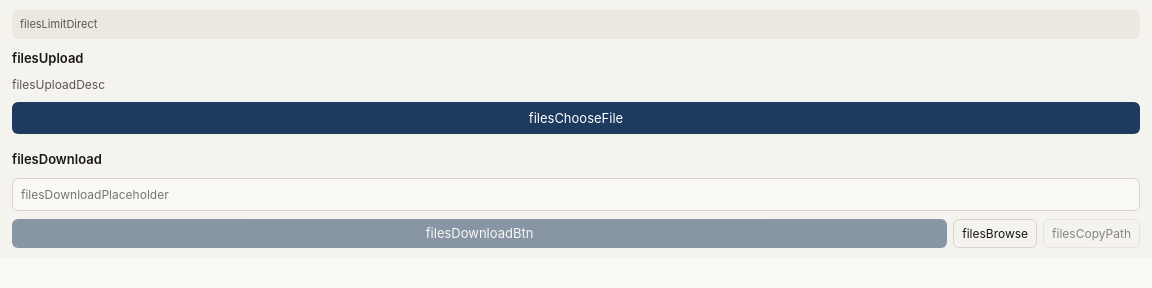
Test: FilesPanel 下载 › FilesPanel_DownloadSavesBlob_1
The image size is (1152, 288).
Type "D:/demo/out.txt" into the field with class "dl-input". click: (576, 194)
box: x1=12 y1=178 x2=1140 y2=210
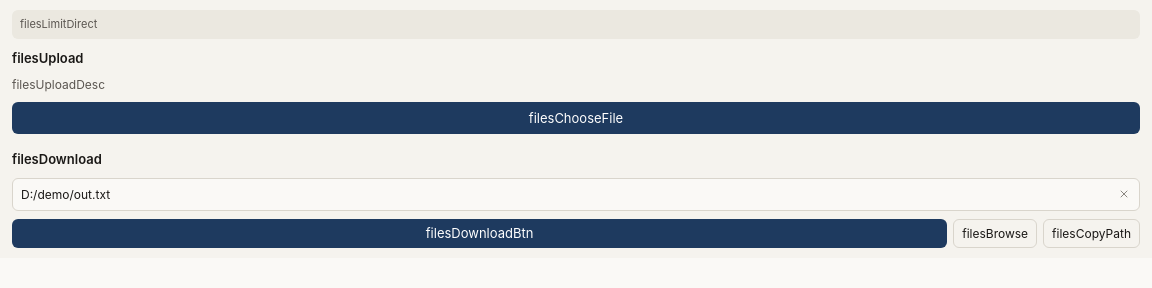
Click the button "filesDownloadBtn". click: (480, 233)
box: x1=12 y1=218 x2=947 y2=248
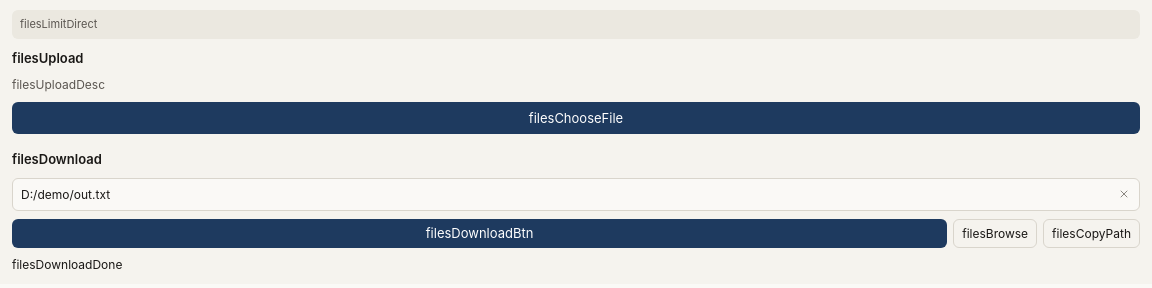
Now the text "filesDownloadDone" is shown, box x1=12 y1=256 x2=122 y2=272
